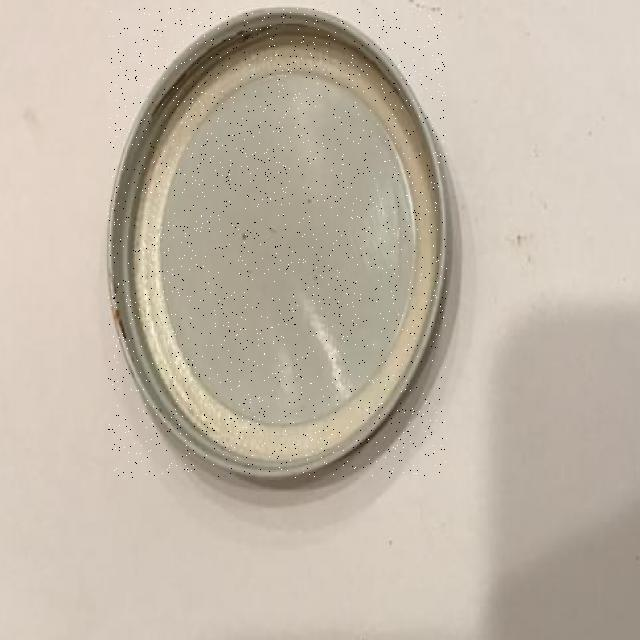metal: (109, 9, 447, 478)
